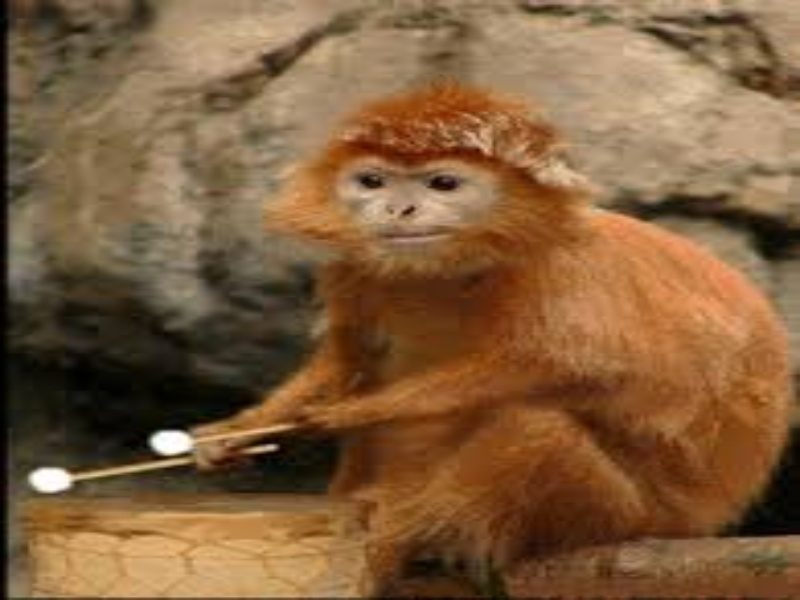monkey: (177, 72, 795, 586)
